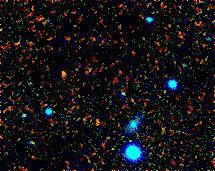star: (49, 57, 79, 87)
